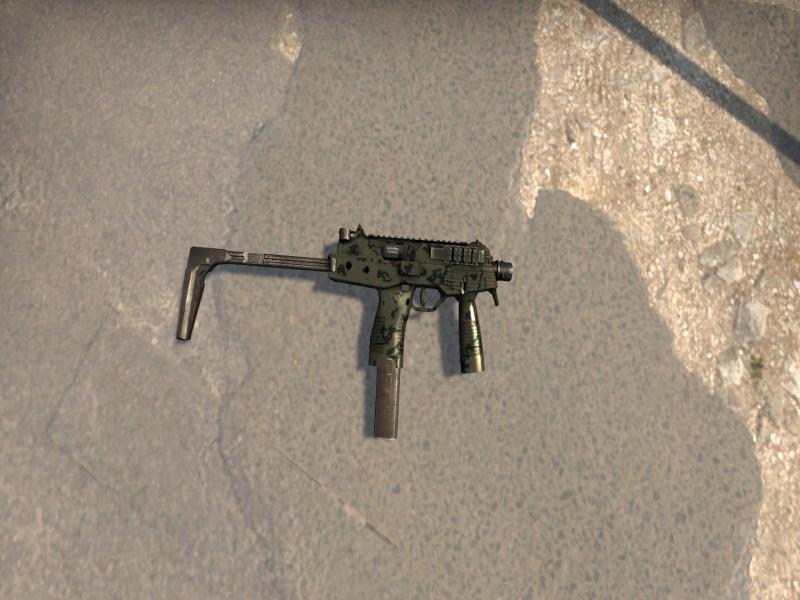MP9: (177, 225, 512, 437)
